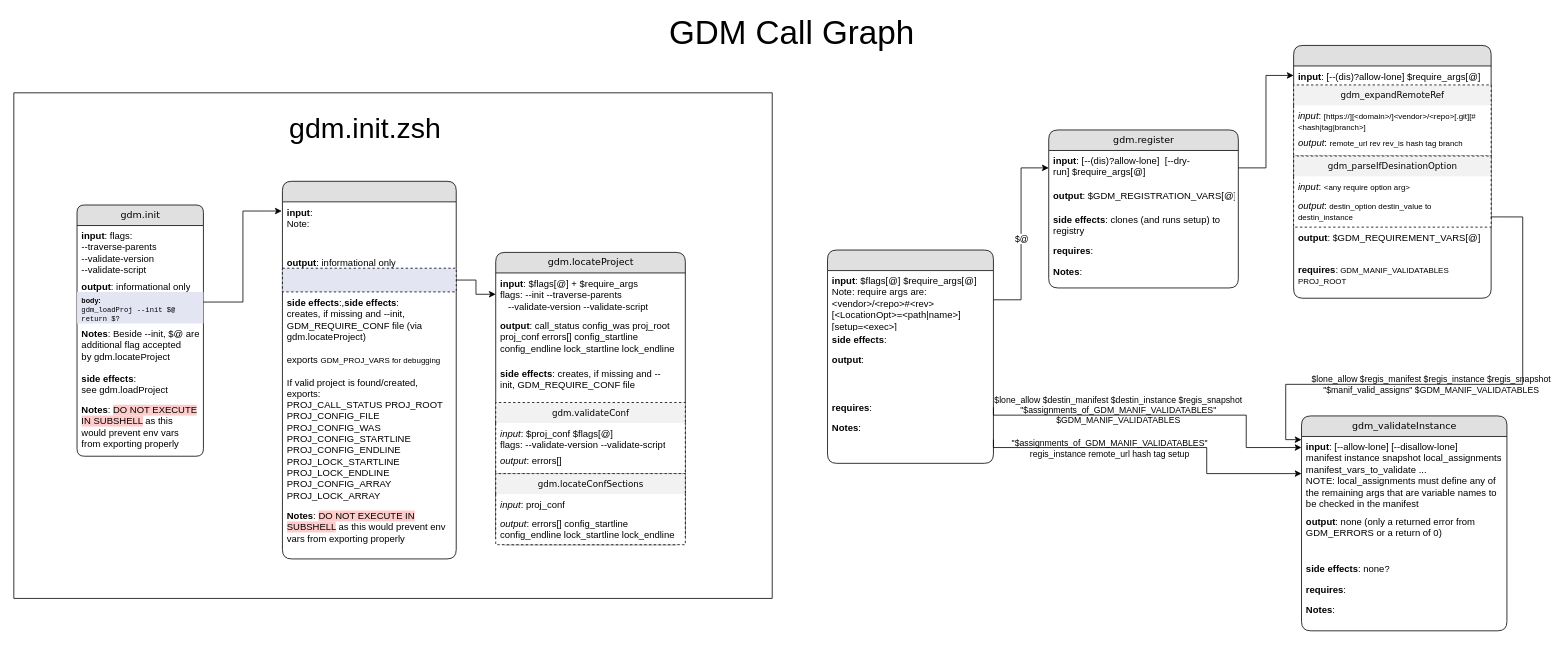
Some shapes in this 1564 by 646 pixel diagram are drawn without their labels. The shapes that lost their labels are listed below. From the top down, each one's box as (x1, y1, x2, y2) in pixels, then its label:
(1293, 45, 1491, 298): gdm_parseRequirement
(282, 267, 456, 292): assigments="$(gdm.locateProject $@)"
(282, 181, 456, 559): gdm.loadProject
(827, 249, 993, 463): gdm.require
